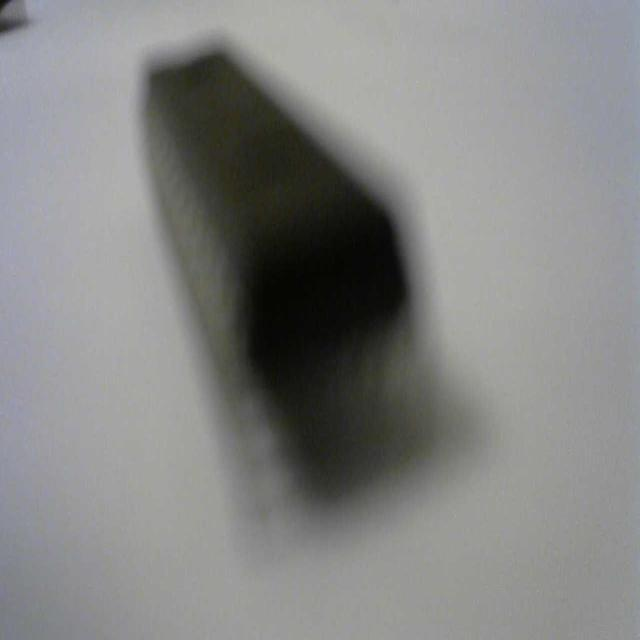atmega: (133, 34, 460, 516)
